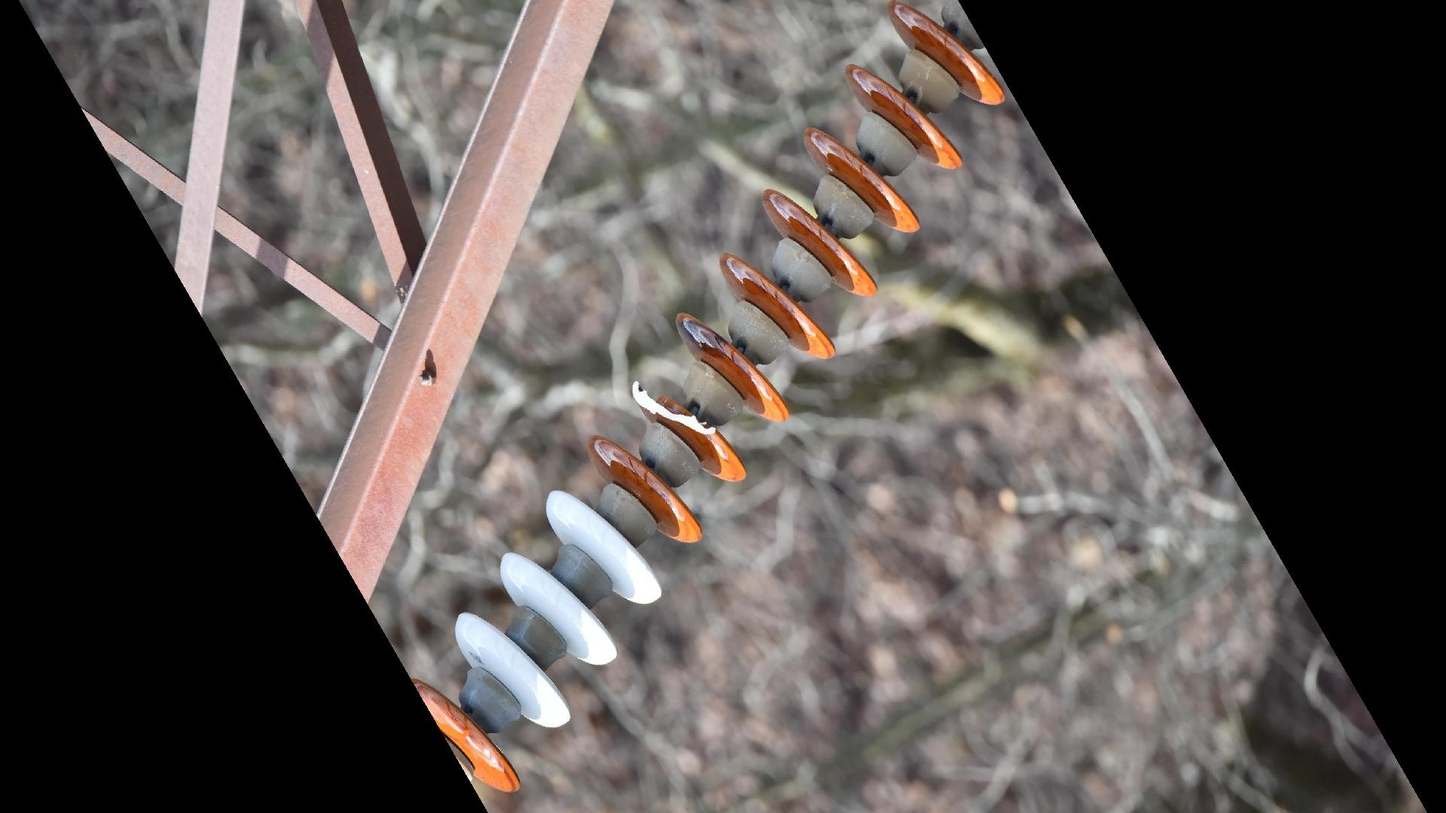insulator: (405, 1, 1016, 799)
insulator_breakage: (625, 375, 723, 442)
